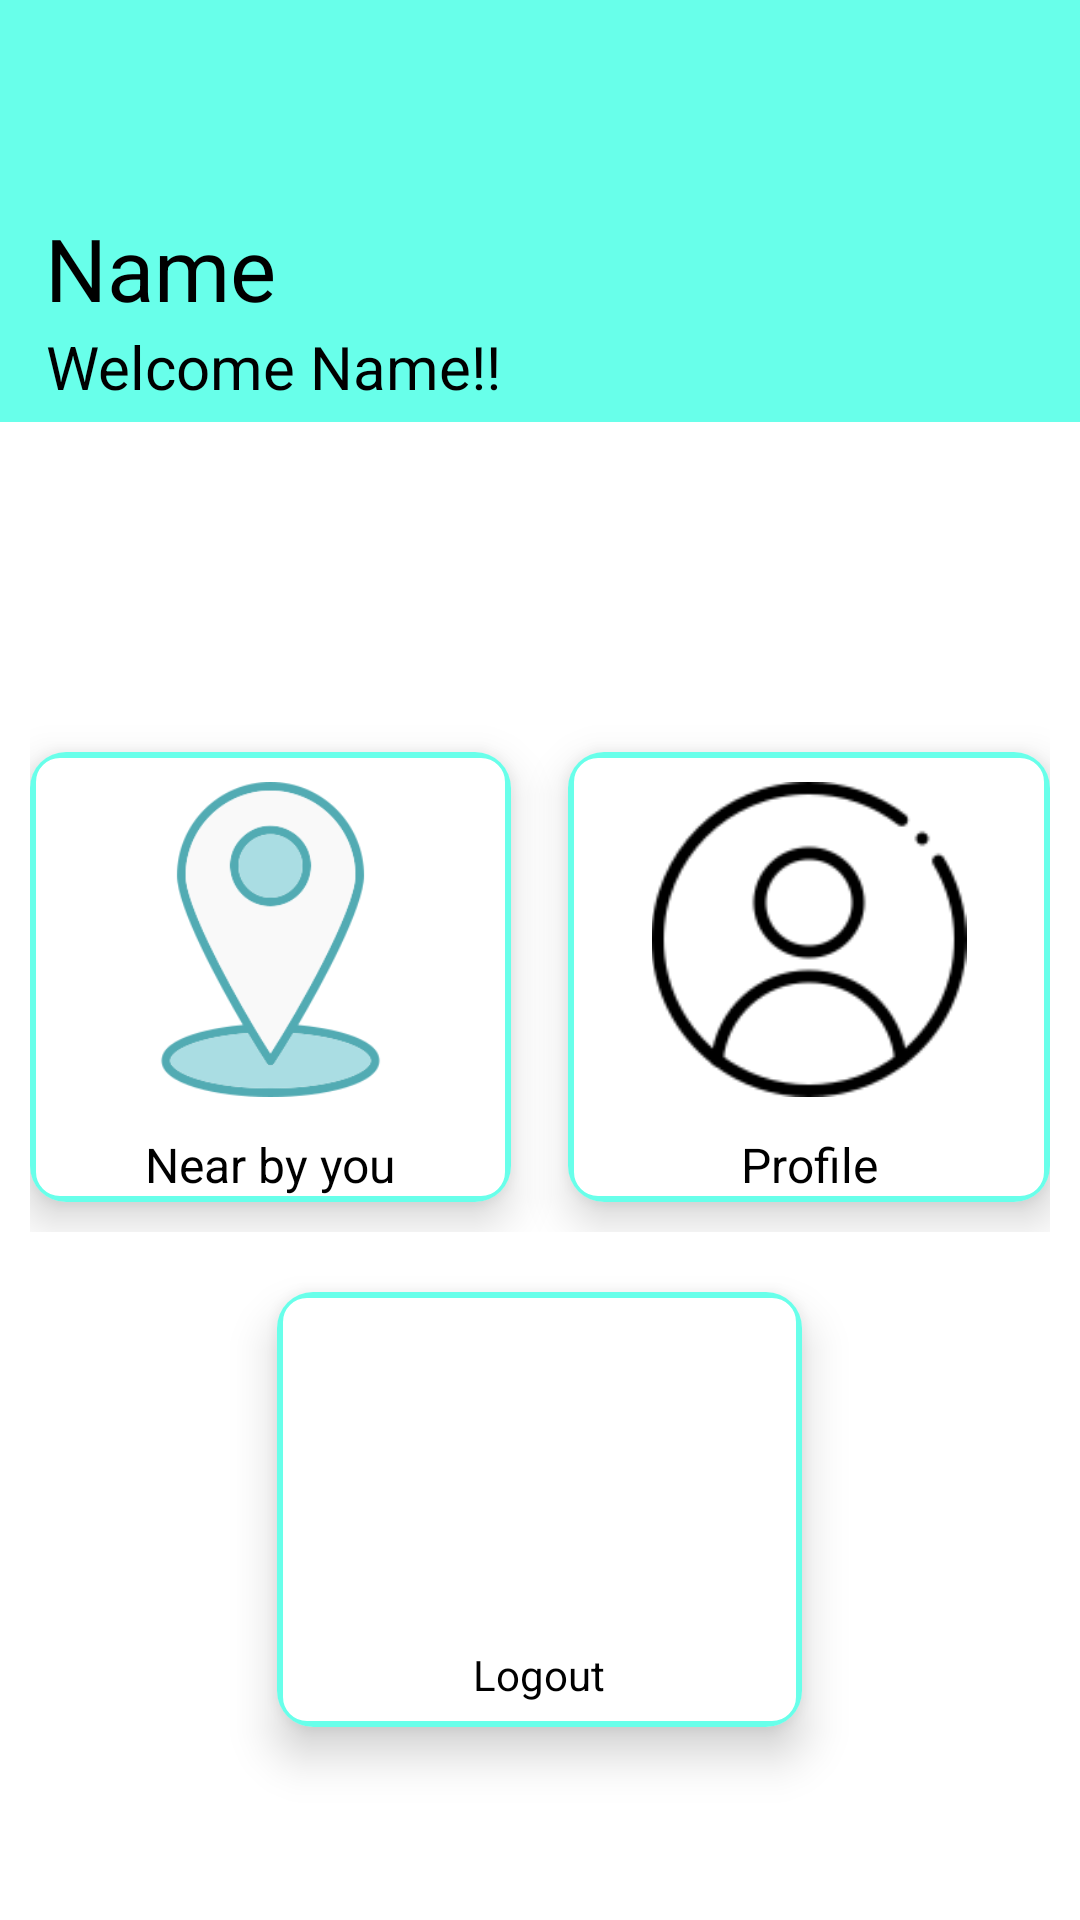

Named icons in this screenshot (1080px×1920px) and their bounding boxes, (x1, y1, x2, y2):
user: (652, 782, 967, 1097)
